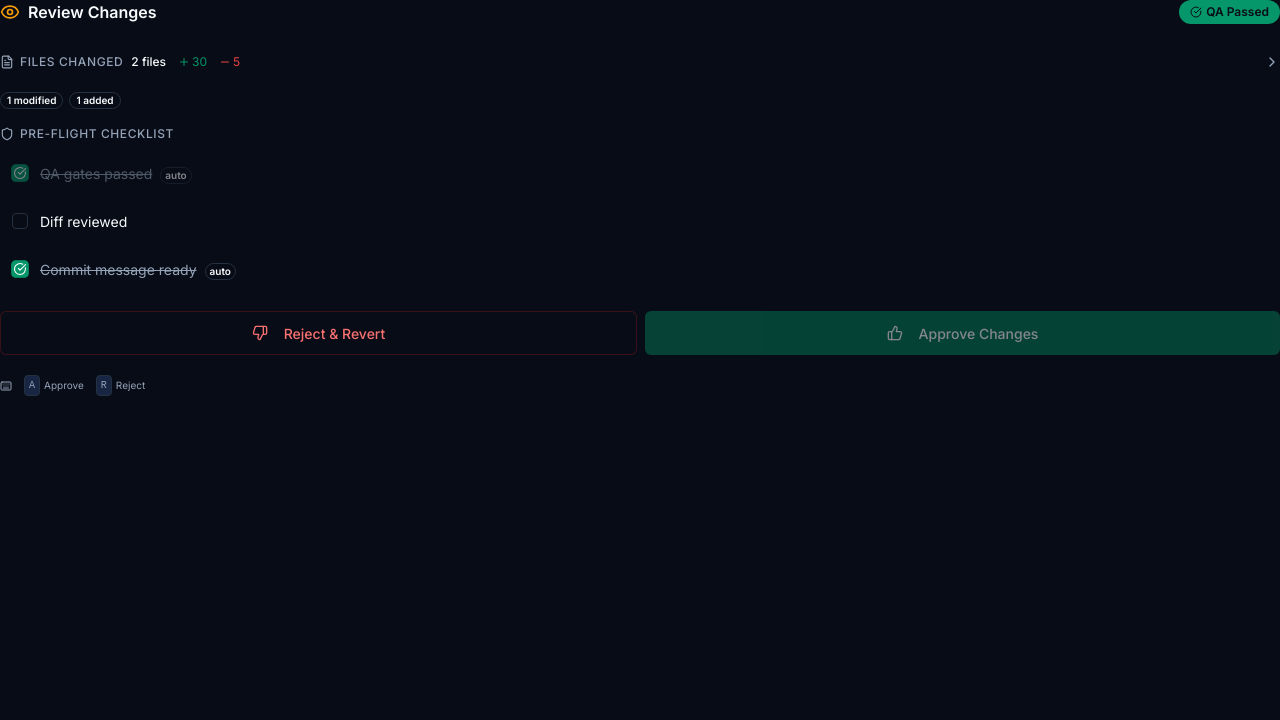
Test: ApprovalPanel › should show approve confirmation dialog when approve is clicked
Complete checklist
Click the checkbox "Diff reviewed" at (84, 222), box [0,199,1279,243]
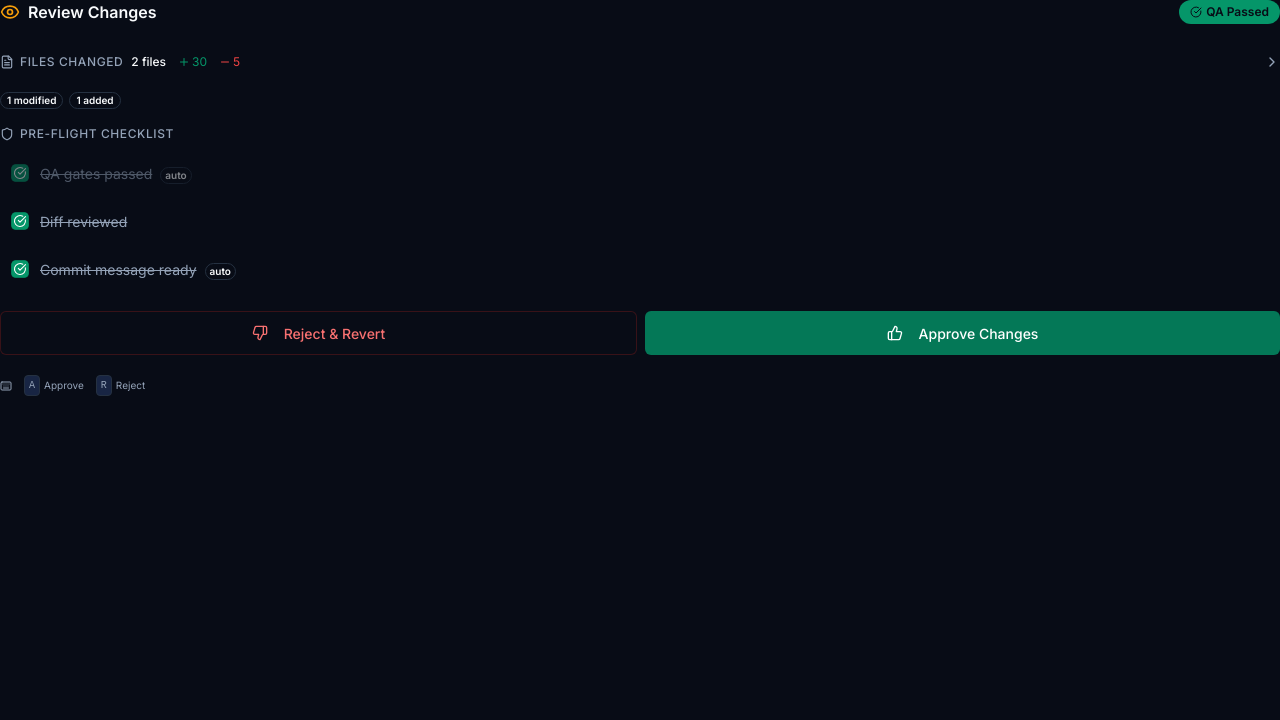
Click approve
Click the button "Approve Changes" at (962, 333), box [645,311,1279,355]
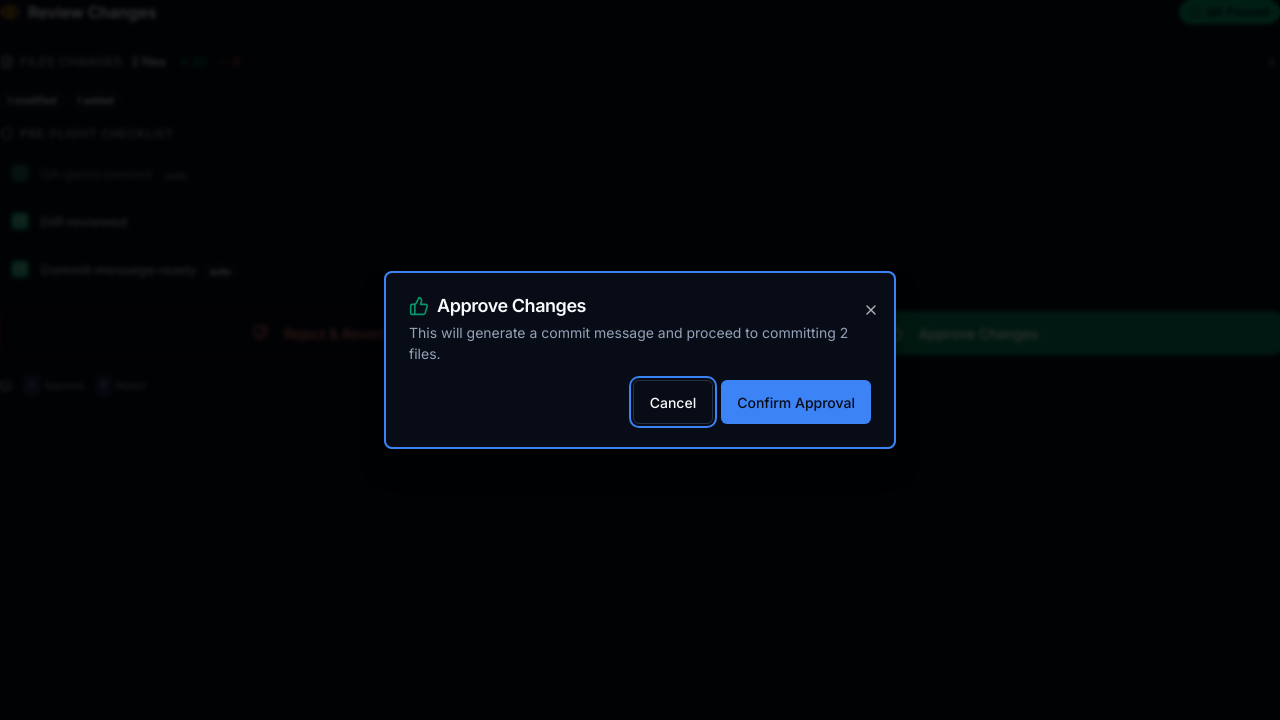
Result: the text "This will generate a commit message" is shown at [409,324,836,341]
Result: the button "Confirm Approval" is shown at [721,380,871,424]
